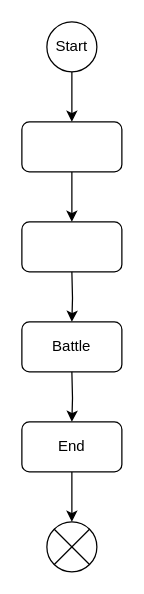
Image size: 144x594. Some labels were removed from this diagram. Here are the shapes that lost their labels. From the top down, the centre of each, then its label:
the point at 71,146: Connect
the point at 71,246: Setup
